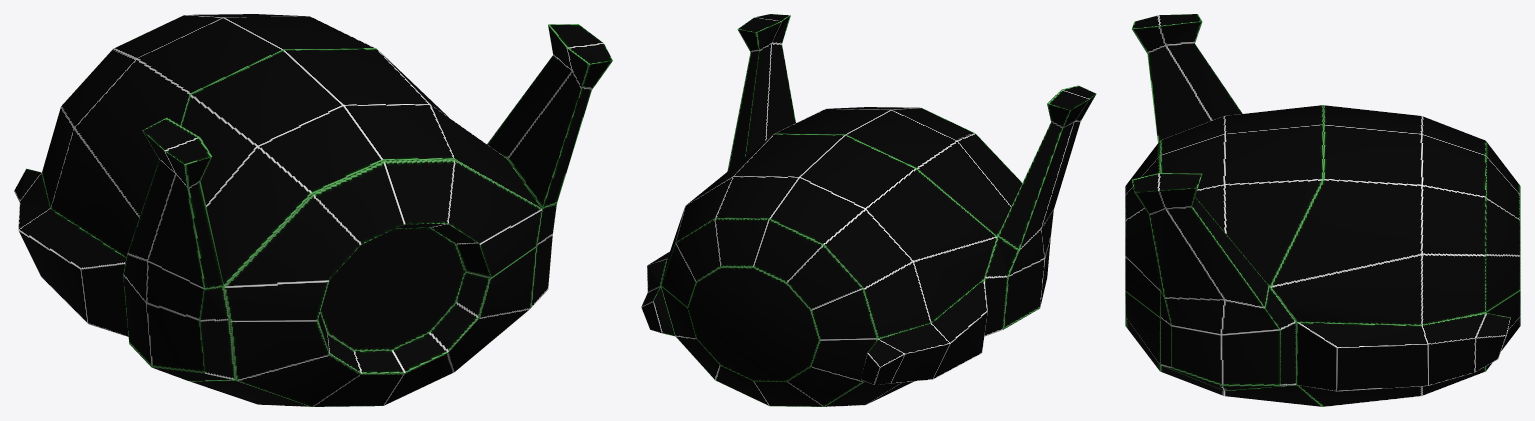
Rendered from chicken.FBX.
The picture shows the model from 3 angles, left to right: view 1: azimuth 30°, elevation 25°; view 2: azimuth 150°, elevation 25°; view 3: azimuth 270°, elevation 25°; orthographic projection. The views are drawn at different scales.
Parts seen in each view (by area): view 1: Cylinder001; view 2: Cylinder001; view 3: Cylinder001.
Boxes of the visible parts, box(x1,y1,x2,y2) form: Cylinder001: box(14, 14, 612, 406); Cylinder001: box(641, 14, 1096, 406); Cylinder001: box(1125, 14, 1520, 406).
Size of the model in its own units: 48.53 by 37.32 by 46.12.
